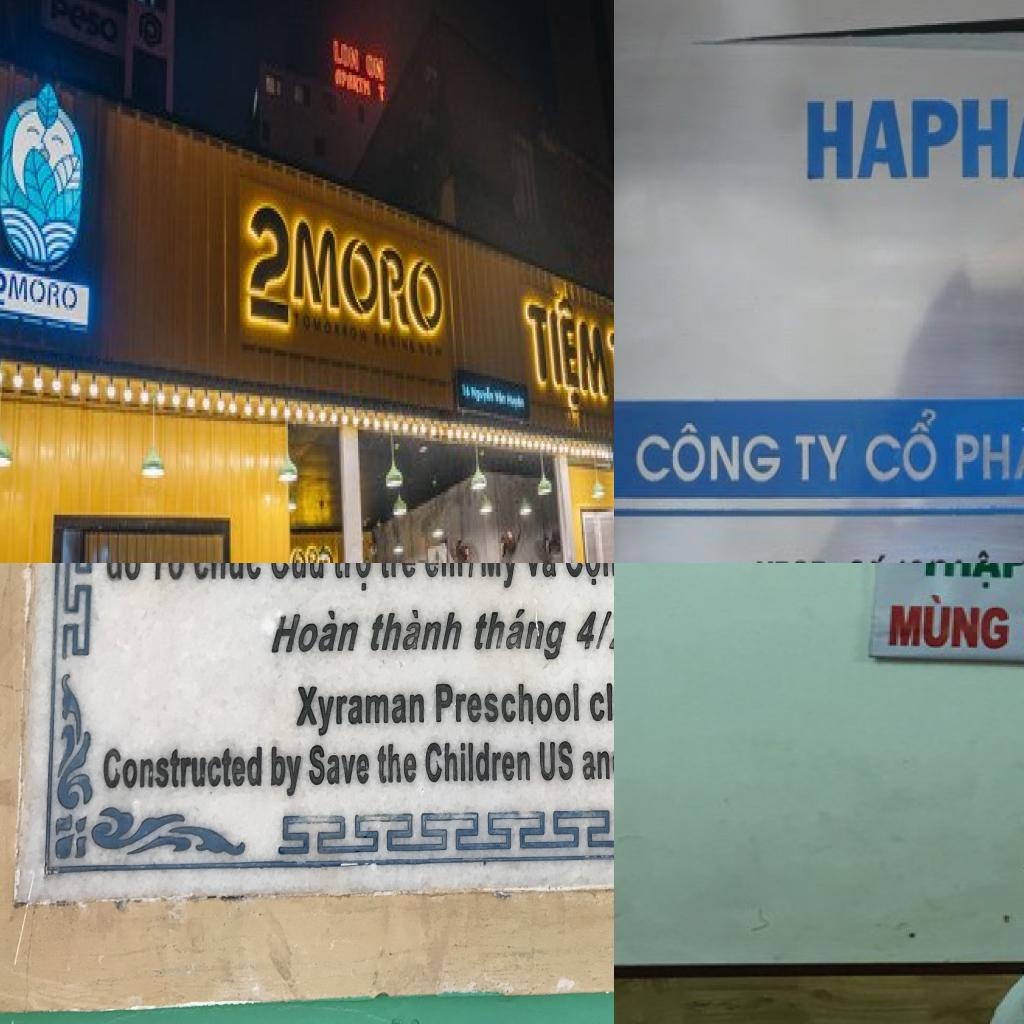text: (245, 192, 448, 370), (798, 91, 1024, 188), (521, 282, 614, 421), (635, 419, 783, 485), (98, 740, 266, 796), (292, 677, 426, 737), (886, 592, 1014, 654), (433, 673, 581, 725), (864, 402, 944, 486), (468, 600, 568, 666), (268, 594, 360, 663), (422, 736, 534, 790), (952, 409, 1024, 491), (368, 600, 464, 658), (0, 268, 79, 324), (48, 0, 123, 52), (790, 427, 851, 487), (305, 740, 371, 792), (915, 563, 1024, 591), (571, 598, 614, 660), (376, 738, 420, 794), (268, 740, 306, 804), (538, 731, 578, 784), (581, 735, 614, 785), (564, 563, 614, 593), (333, 563, 376, 597), (585, 676, 614, 726), (193, 563, 262, 583), (477, 563, 522, 592), (147, 563, 192, 590), (332, 38, 362, 78), (267, 563, 326, 582), (289, 543, 337, 563), (103, 563, 142, 587), (364, 52, 388, 86), (842, 547, 892, 563), (376, 563, 418, 582), (423, 563, 464, 582), (522, 563, 559, 583), (971, 549, 1012, 563), (377, 84, 389, 106), (465, 563, 479, 581)
